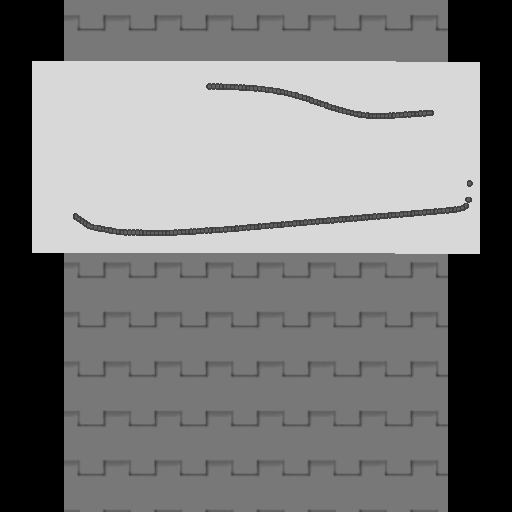Defect: (60, 79, 207, 216)
